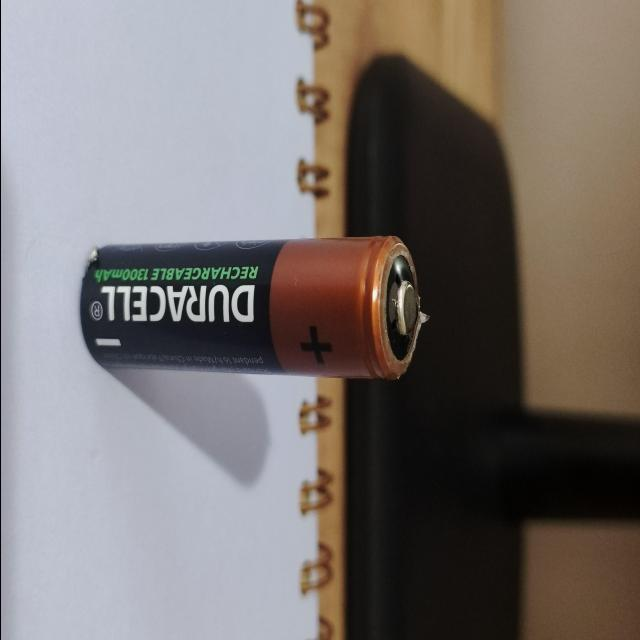AA: (74, 229, 427, 382)
